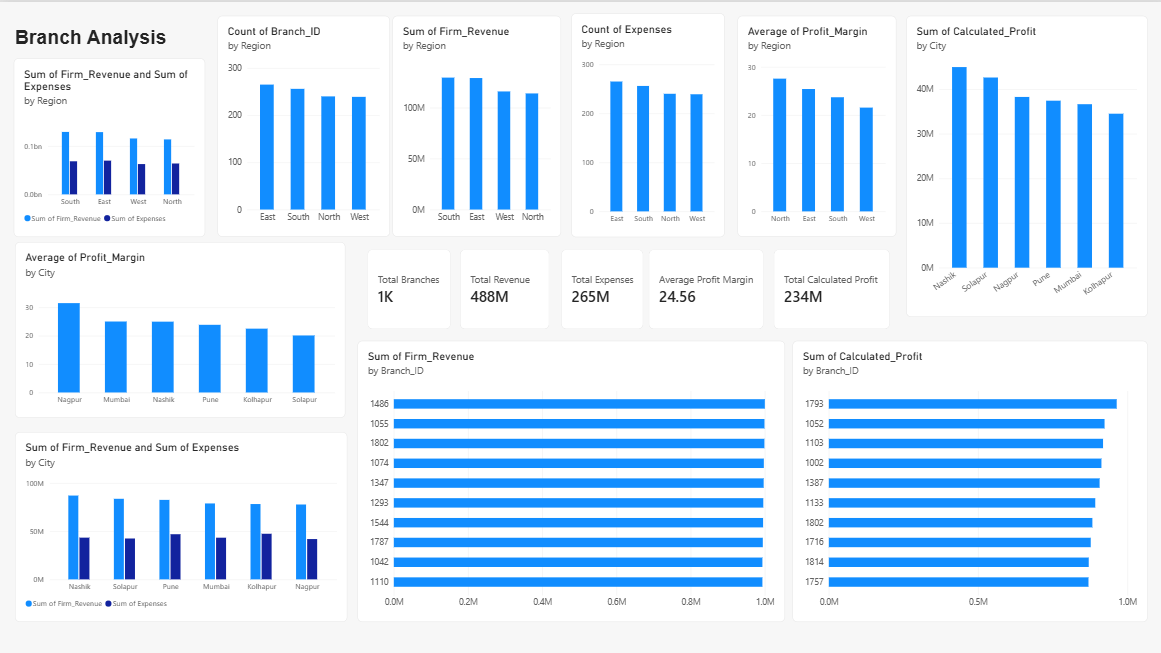

The dashboard page shown, as its layout file describes it:
{"tool":"powerbi","page":{"name":"Branch Analysis","canvas":[1920,1080],"ordinal":3},"visuals":[{"type":"cardVisual","fields":{"Data":["bank_cleaned.Total Branches"]},"box":[605.1,407.5,137.9,131.7],"z":0},{"type":"cardVisual","fields":{"Data":["bank_cleaned.Total Revenue"]},"box":[757.5,407.5,147.2,131.6],"z":1000},{"type":"cardVisual","fields":{"Data":["bank_cleaned.Total Expenses"]},"box":[924.2,407.5,135.8,131.7],"z":2000},{"type":"clusteredColumnChart","fields":{"Category":["bank_cleaned.City"],"Y":["Sum(bank_cleaned.Firm_Revenue)","Sum(bank_cleaned.Expenses)"]},"box":[24.7,708.1,547.5,312.9],"z":3000},{"type":"clusteredColumnChart","fields":{"Category":["bank_cleaned.City"],"Y":["Avg(bank_cleaned.Profit_Margin)"]},"box":[24.7,395.2,544.2,290],"z":4000},{"type":"clusteredColumnChart","fields":{"Category":["bank_cleaned.Region"],"Y":["Sum(bank_cleaned.Firm_Revenue)"]},"box":[646.3,22.6,277.9,364.3],"z":5000},{"type":"clusteredColumnChart","fields":{"Category":["bank_cleaned.Region"],"Y":["CountNonNull(bank_cleaned.Expenses)"]},"box":[940.7,18.5,253.2,368.4],"z":6000},{"type":"cardVisual","fields":{"Data":["bank_cleaned.Total Calculated Profit"]},"box":[1274.1,407.5,191.8,131.6],"z":7000},{"type":"clusteredColumnChart","fields":{"Category":["bank_cleaned.City"],"Y":["Sum(bank_cleaned.Calculated_Profit)"]},"box":[1492.3,22.6,397.3,496.1],"z":8000},{"type":"clusteredColumnChart","fields":{"Category":["bank_cleaned.Region"],"Y":["CountNonNull(bank_cleaned.Branch_ID)"]},"box":[358.1,22.6,284,364.3],"z":9000},{"type":"clusteredColumnChart","fields":{"Category":["bank_cleaned.Region"],"Y":["Sum(bank_cleaned.Firm_Revenue)","Sum(bank_cleaned.Expenses)"]},"box":[22.6,92.6,314.9,294.3],"z":10000},{"type":"cardVisual","fields":{"Data":["bank_cleaned.Average Profit Margin"]},"box":[1068.3,407.5,189.4,131.7],"z":11000},{"type":"clusteredBarChart","fields":{"Category":["bank_cleaned.Branch_ID"],"Y":["Sum(bank_cleaned.Firm_Revenue)"]},"box":[588.7,557.8,703.9,463.1],"z":12000},{"type":"clusteredBarChart","fields":{"Category":["bank_cleaned.Branch_ID"],"Y":["Sum(bank_cleaned.Calculated_Profit)"]},"box":[1305,557.8,584.6,463.1],"z":13000},{"type":"clusteredColumnChart","fields":{"Category":["bank_cleaned.Region"],"Y":["Avg(bank_cleaned.Profit_Margin)"]},"box":[1214.4,22.6,261.4,364.3],"z":14000},{"type":"textbox","box":[24.7,41.2,298.5,51.5],"z":15000}]}

Visuals, with their boxes in screenshot pixels (x1, y1, x2, y2), scaled from the page's 1920x1080 canvas onto the 1161x653 screenshot:
cardVisual - bank_cleaned.Total Branches: 366:246:449:326
cardVisual - bank_cleaned.Total Revenue: 458:246:547:326
cardVisual - bank_cleaned.Total Expenses: 559:246:641:326
clusteredColumnChart - bank_cleaned.City x Sum(bank_cleaned.Firm_Revenue): 15:428:346:617
clusteredColumnChart - bank_cleaned.City x Avg(bank_cleaned.Profit_Margin): 15:239:344:414
clusteredColumnChart - bank_cleaned.Region x Sum(bank_cleaned.Firm_Revenue): 391:14:559:234
clusteredColumnChart - bank_cleaned.Region x CountNonNull(bank_cleaned.Expenses): 569:11:722:234
cardVisual - bank_cleaned.Total Calculated Profit: 770:246:886:326
clusteredColumnChart - bank_cleaned.City x Sum(bank_cleaned.Calculated_Profit): 902:14:1143:314
clusteredColumnChart - bank_cleaned.Region x CountNonNull(bank_cleaned.Branch_ID): 217:14:388:234
clusteredColumnChart - bank_cleaned.Region x Sum(bank_cleaned.Firm_Revenue): 14:56:204:234
cardVisual - bank_cleaned.Average Profit Margin: 646:246:761:326
clusteredBarChart - bank_cleaned.Branch_ID x Sum(bank_cleaned.Firm_Revenue): 356:337:782:617
clusteredBarChart - bank_cleaned.Branch_ID x Sum(bank_cleaned.Calculated_Profit): 789:337:1143:617
clusteredColumnChart - bank_cleaned.Region x Avg(bank_cleaned.Profit_Margin): 734:14:892:234
textbox: 15:25:195:56
